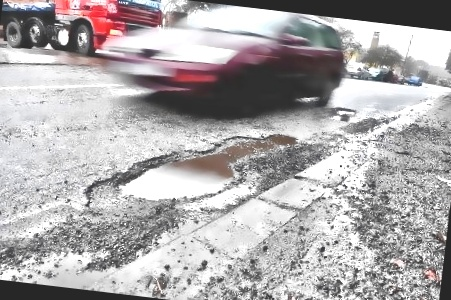pothole: (108, 111, 303, 218), (328, 104, 358, 122)
